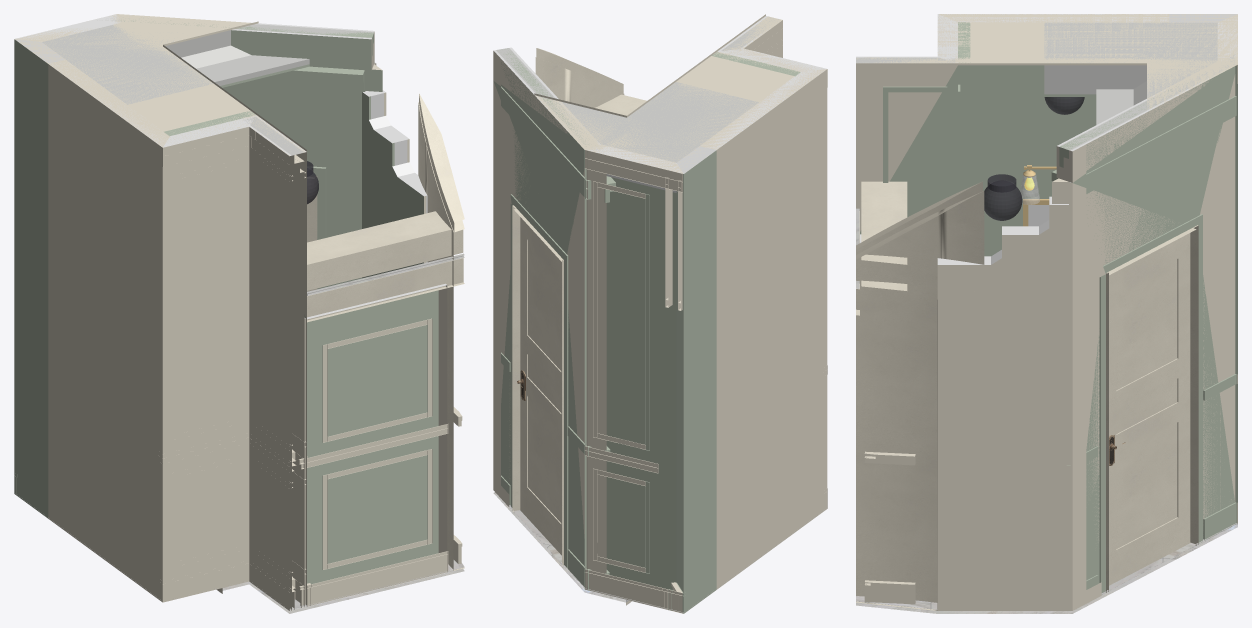
File: powder-room-c42a569252e4.glb
3 views of the same model, side by side, from view 1: azimuth 30°, elevation 25°; view 2: azimuth 150°, elevation 25°; view 3: azimuth 270°, elevation 25° (orthographic). The views are drawn at different scales.
Visible parts, largest first — view 1: powder-room-d33eebe572d154f2, powder-room-1a8091885ac212af, powder-room-ab5cb5e7d303dd66, powder-room-85f0fd939e0fcc78, powder-room-9b21989b25895c4a, powder-room-a5eabba2ad6474eb, powder-room-2575515a05775d9e, powder-room-5b07a8f5f7929ff6, powder-room-ca6eafacc0f493ac, powder-room-3d7935a3f1355396, powder-room-261aa5c5ae0f77af, powder-room-b74e3495b7e70350 (+11 smaller); view 2: powder-room-d33eebe572d154f2, powder-room-a5eabba2ad6474eb, powder-room-b2b5f93b4255576d, powder-room-9b21989b25895c4a, powder-room-539cd4ce99668665, powder-room-2575515a05775d9e, powder-room-5b07a8f5f7929ff6, powder-room-86d6fc7292b21ae1, powder-room-ae2ab6de1156d266, powder-room-48dc2409da547ff7, powder-room-b74e3495b7e70350, powder-room-f5fbb4dd3b92b4c5 (+14 smaller); view 3: powder-room-d65b0a574c2ac13c, powder-room-a5eabba2ad6474eb, powder-room-b74e3495b7e70350, powder-room-539cd4ce99668665, powder-room-2575515a05775d9e, powder-room-d33eebe572d154f2, powder-room-85f0fd939e0fcc78, powder-room-5b07a8f5f7929ff6, powder-room-48dc2409da547ff7, powder-room-86d6fc7292b21ae1, powder-room-48dd1d74e06d76de, powder-room-ca6eafacc0f493ac (+17 smaller).
Part boxes in pixels (left/top/right/bottom): powder-room-d33eebe572d154f2: left=48, top=60, right=167, bottom=601; powder-room-1a8091885ac212af: left=163, top=116, right=255, bottom=602; powder-room-ab5cb5e7d303dd66: left=306, top=283, right=447, bottom=605; powder-room-85f0fd939e0fcc78: left=243, top=115, right=306, bottom=610; powder-room-9b21989b25895c4a: left=14, top=39, right=64, bottom=518; powder-room-a5eabba2ad6474eb: left=97, top=14, right=382, bottom=286; powder-room-2575515a05775d9e: left=14, top=14, right=306, bottom=155; powder-room-5b07a8f5f7929ff6: left=42, top=24, right=309, bottom=104; powder-room-ca6eafacc0f493ac: left=307, top=211, right=463, bottom=290; powder-room-3d7935a3f1355396: left=362, top=92, right=426, bottom=278; powder-room-261aa5c5ae0f77af: left=306, top=257, right=464, bottom=322; powder-room-b74e3495b7e70350: left=418, top=102, right=464, bottom=570; powder-room-d33eebe572d154f2: left=701, top=69, right=827, bottom=589; powder-room-a5eabba2ad6474eb: left=493, top=47, right=606, bottom=589; powder-room-b2b5f93b4255576d: left=584, top=145, right=683, bottom=593; powder-room-9b21989b25895c4a: left=676, top=146, right=716, bottom=613; powder-room-539cd4ce99668665: left=520, top=217, right=561, bottom=555; powder-room-2575515a05775d9e: left=534, top=14, right=826, bottom=173; powder-room-5b07a8f5f7929ff6: left=562, top=82, right=758, bottom=162; powder-room-86d6fc7292b21ae1: left=512, top=205, right=563, bottom=565; powder-room-ae2ab6de1156d266: left=593, top=181, right=649, bottom=450; powder-room-48dc2409da547ff7: left=510, top=194, right=568, bottom=567; powder-room-b74e3495b7e70350: left=535, top=57, right=624, bottom=107; powder-room-f5fbb4dd3b92b4c5: left=585, top=569, right=682, bottom=613; powder-room-d65b0a574c2ac13c: left=937, top=204, right=1068, bottom=610; powder-room-a5eabba2ad6474eb: left=1052, top=54, right=1235, bottom=610; powder-room-b74e3495b7e70350: left=856, top=191, right=984, bottom=610; powder-room-539cd4ce99668665: left=1109, top=233, right=1190, bottom=585; powder-room-2575515a05775d9e: left=856, top=14, right=1237, bottom=110; powder-room-d33eebe572d154f2: left=938, top=14, right=1169, bottom=256; powder-room-85f0fd939e0fcc78: left=856, top=56, right=957, bottom=234; powder-room-5b07a8f5f7929ff6: left=1044, top=22, right=1217, bottom=124; powder-room-48dc2409da547ff7: left=1099, top=214, right=1202, bottom=594; powder-room-86d6fc7292b21ae1: left=1106, top=225, right=1198, bottom=592; powder-room-48dd1d74e06d76de: left=1086, top=96, right=1236, bottom=193; powder-room-ca6eafacc0f493ac: left=861, top=181, right=907, bottom=290.
Bounding box in the file's own units: 1.92 × 3.05 × 2.26.
Materials: 28 (5 with a texture image).
